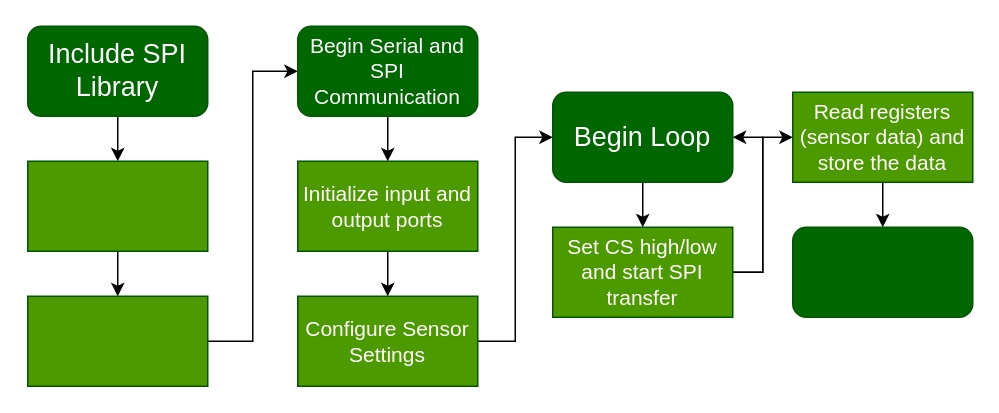
This 999x413 diagram has some shape labels left out. The shapes that lost their labels are listed below. From the top down, each one's centre as x and y in pixels, then its label:
At point 117,205: "Assign Register Addresses".
At point 882,271: "End Loop, set CS low/high and end SPI transfer".
At point 117,340: "Setup Ports (SCK,SDI,SDO,CS)".
